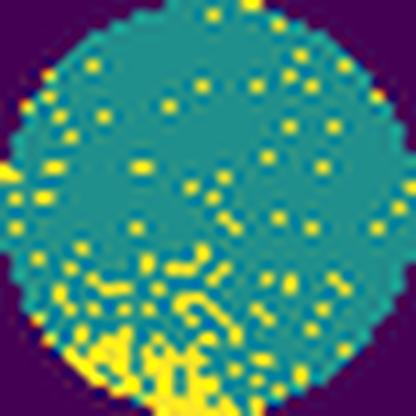Edge-Loc: (58, 319, 244, 416)
